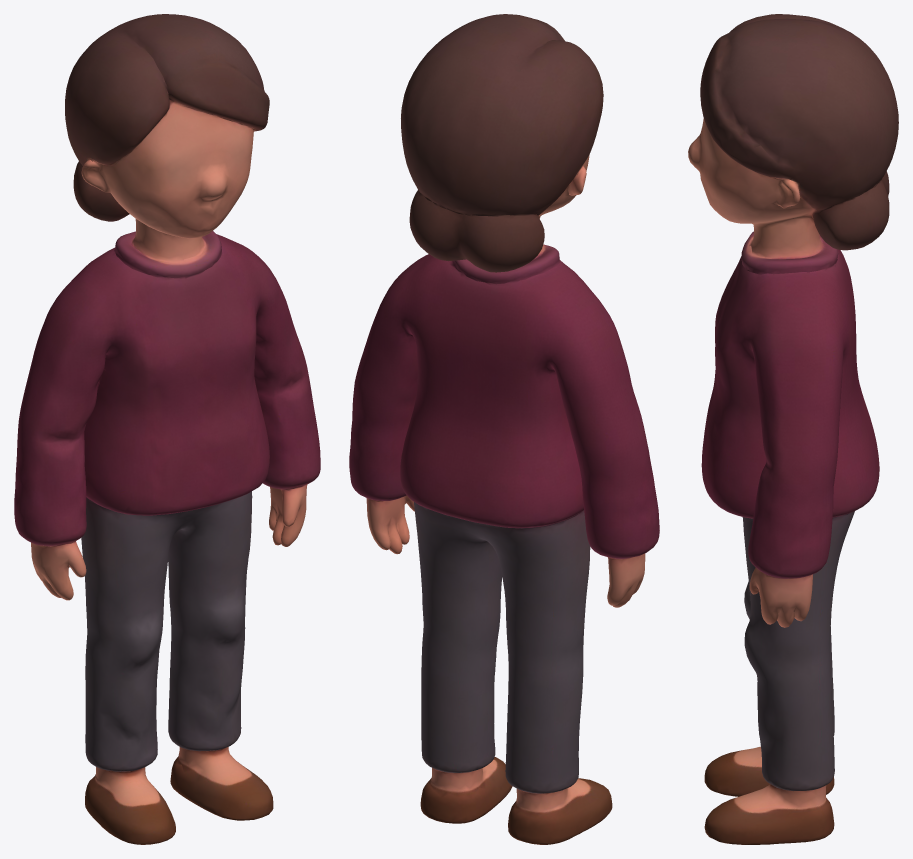
Rendered from mum.glb.
3 renders of one model, left to right at view 1: azimuth 30°, elevation 25°; view 2: azimuth 150°, elevation 25°; view 3: azimuth 270°, elevation 25°, orthographic.
Visible parts, largest first — view 1: Mesh; view 2: Mesh; view 3: Mesh.
Boxes of the visible parts, x1,y1,x2,y2 form: Mesh: (14, 14, 320, 844); Mesh: (349, 14, 659, 844); Mesh: (688, 14, 898, 844).
Size of the model in its own units: 0.7495 by 1.89 by 0.4603.
Materials: 1 (1 with a texture image).
